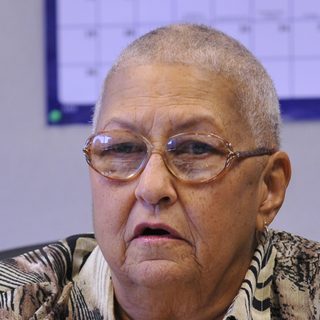eye: (177, 139, 223, 162), (100, 139, 143, 163)
